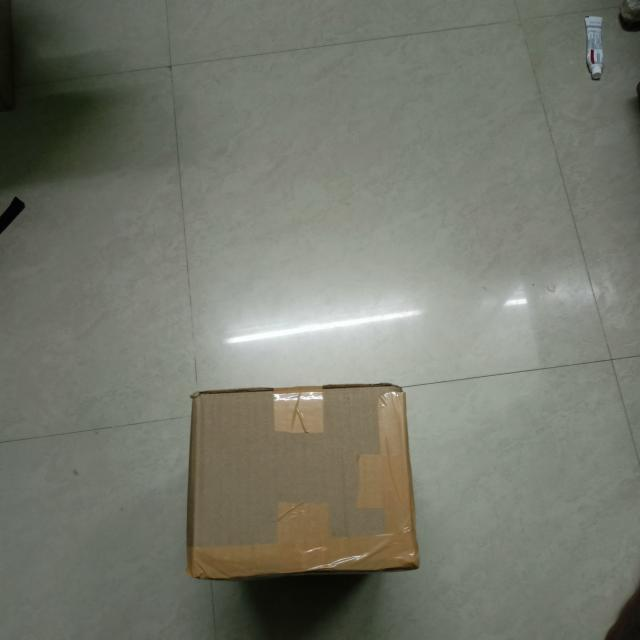box: (187, 388, 415, 574)
